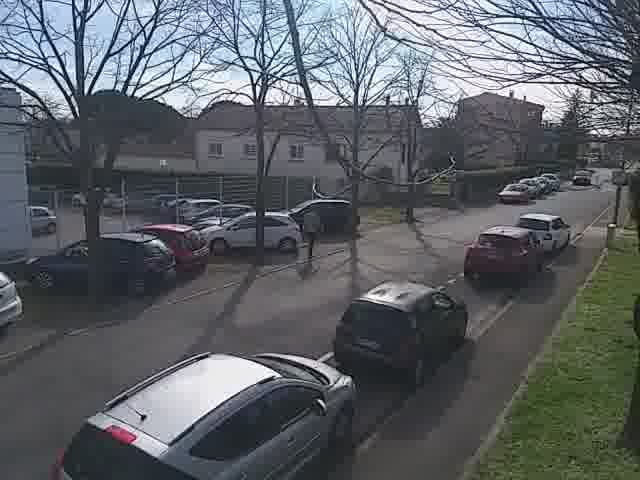persona: (293, 196, 326, 263)
